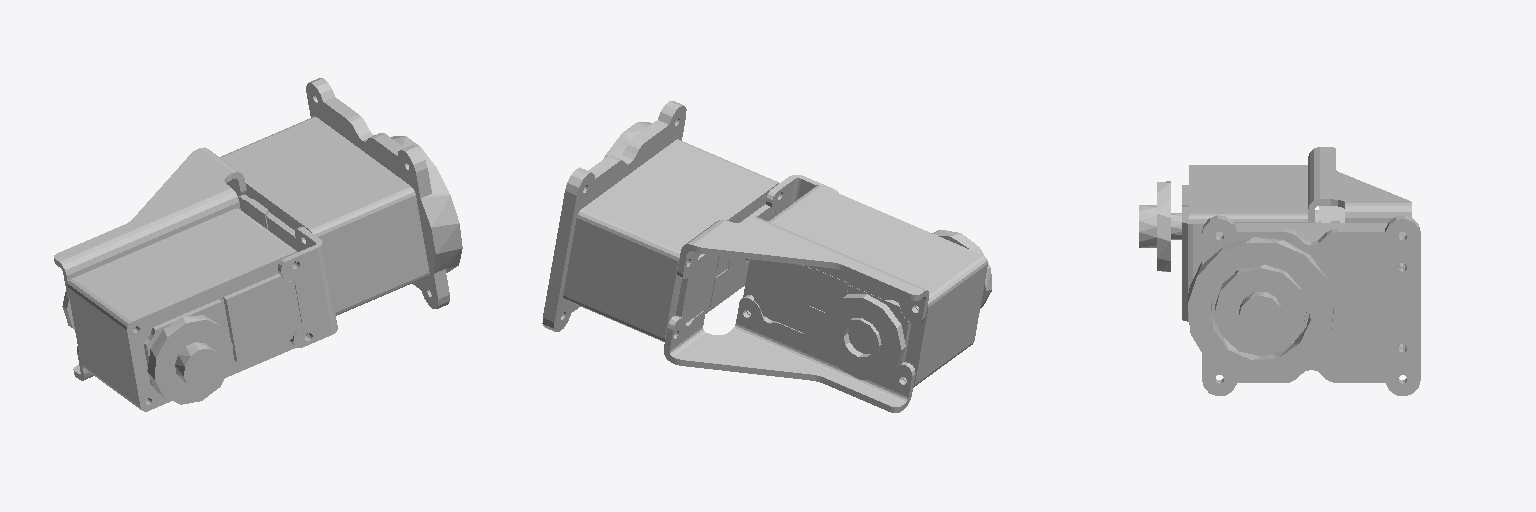
Rendered from roki_Robot_Football_Player_SKS_2501_Servov12_10_v1_1_mesh.obj.
3 renders of one model, left to right at view 1: azimuth 30°, elevation 25°; view 2: azimuth 150°, elevation 25°; view 3: azimuth 270°, elevation 25°, orthographic.
Parts seen in each view (by area): view 1: Body5, Body9, Body10, Body6, Body8; view 2: Body9, Body5, Body7, Body6, Body10, Body3, Body8; view 3: Body10, Body5, Body9, Body6, Body8.
Part boxes in pixels (x1,y1,x2,y2): Body5: (67, 208, 308, 411); Body9: (220, 116, 429, 315); Body10: (306, 78, 462, 308); Body6: (54, 147, 246, 297); Body8: (278, 226, 337, 347); Body9: (563, 139, 778, 341); Body5: (743, 185, 991, 387); Body7: (664, 295, 915, 412); Body6: (677, 216, 928, 324); Body10: (542, 101, 686, 331); Body3: (822, 294, 905, 379); Body8: (766, 175, 838, 215); Body10: (1188, 215, 1420, 395); Body5: (1139, 165, 1318, 271); Body9: (1212, 223, 1406, 356); Body6: (1308, 147, 1411, 222); Body8: (1182, 212, 1205, 321).
Bounding box in the file's own units: 0.0888 × 0.0482 × 0.0612.